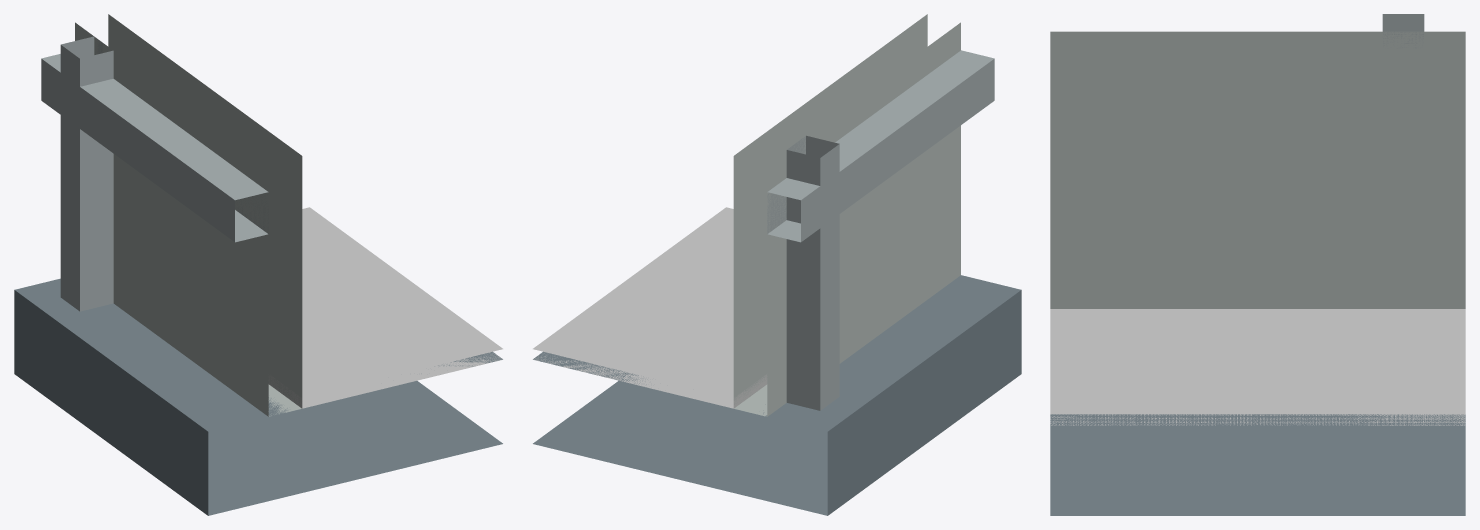
Rendered from cell_7.obj.
3 views of the same model, side by side, from view 1: azimuth 30°, elevation 25°; view 2: azimuth 150°, elevation 25°; view 3: azimuth 270°, elevation 25° (orthographic). The views are drawn at different scales.
Size of the model in its own units: 0.88 by 0.96 by 1.
